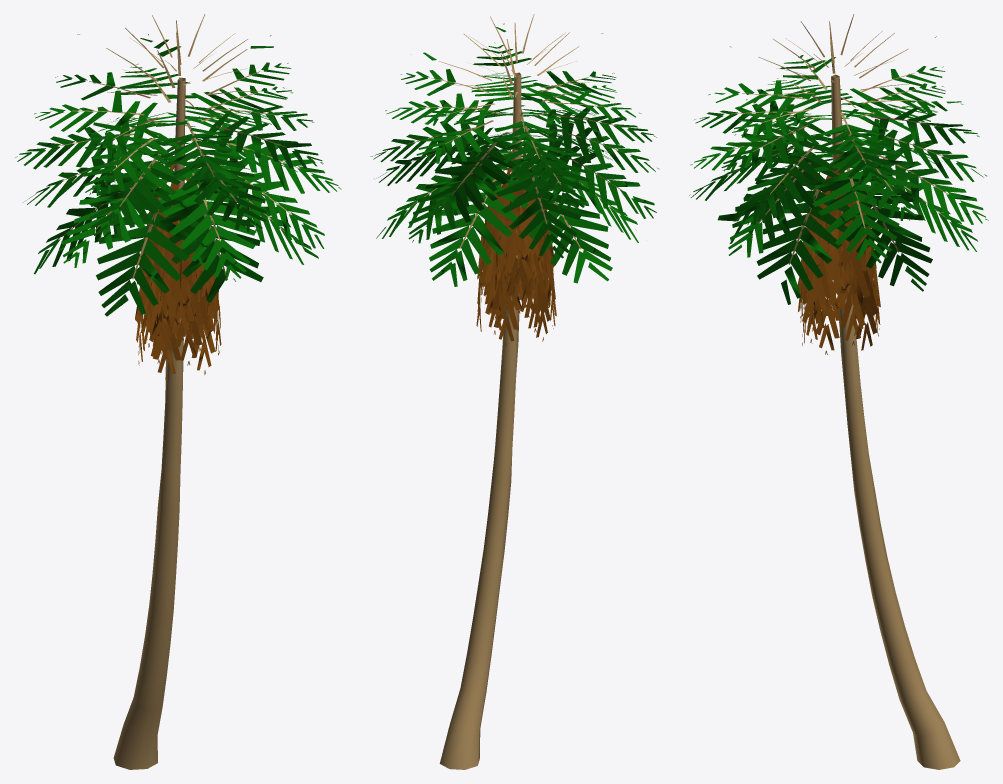
The model's file is Tree_03.fbx.
The picture shows the model from 3 angles, left to right: view 1: azimuth 30°, elevation 25°; view 2: azimuth 150°, elevation 25°; view 3: azimuth 270°, elevation 25°; orthographic projection. The views are drawn at different scales.
Visible parts, largest first — view 1: Foliage002; view 2: Foliage002; view 3: Foliage002.
Boxes of the visible parts, bbox=[...] form: Foliage002: bbox=[15, 14, 341, 769]; Foliage002: bbox=[370, 14, 659, 769]; Foliage002: bbox=[689, 14, 988, 769].
Size of the model in its own units: 160 by 162 by 430.
